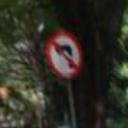NoVirarEsquerda: (47, 30, 84, 78)
